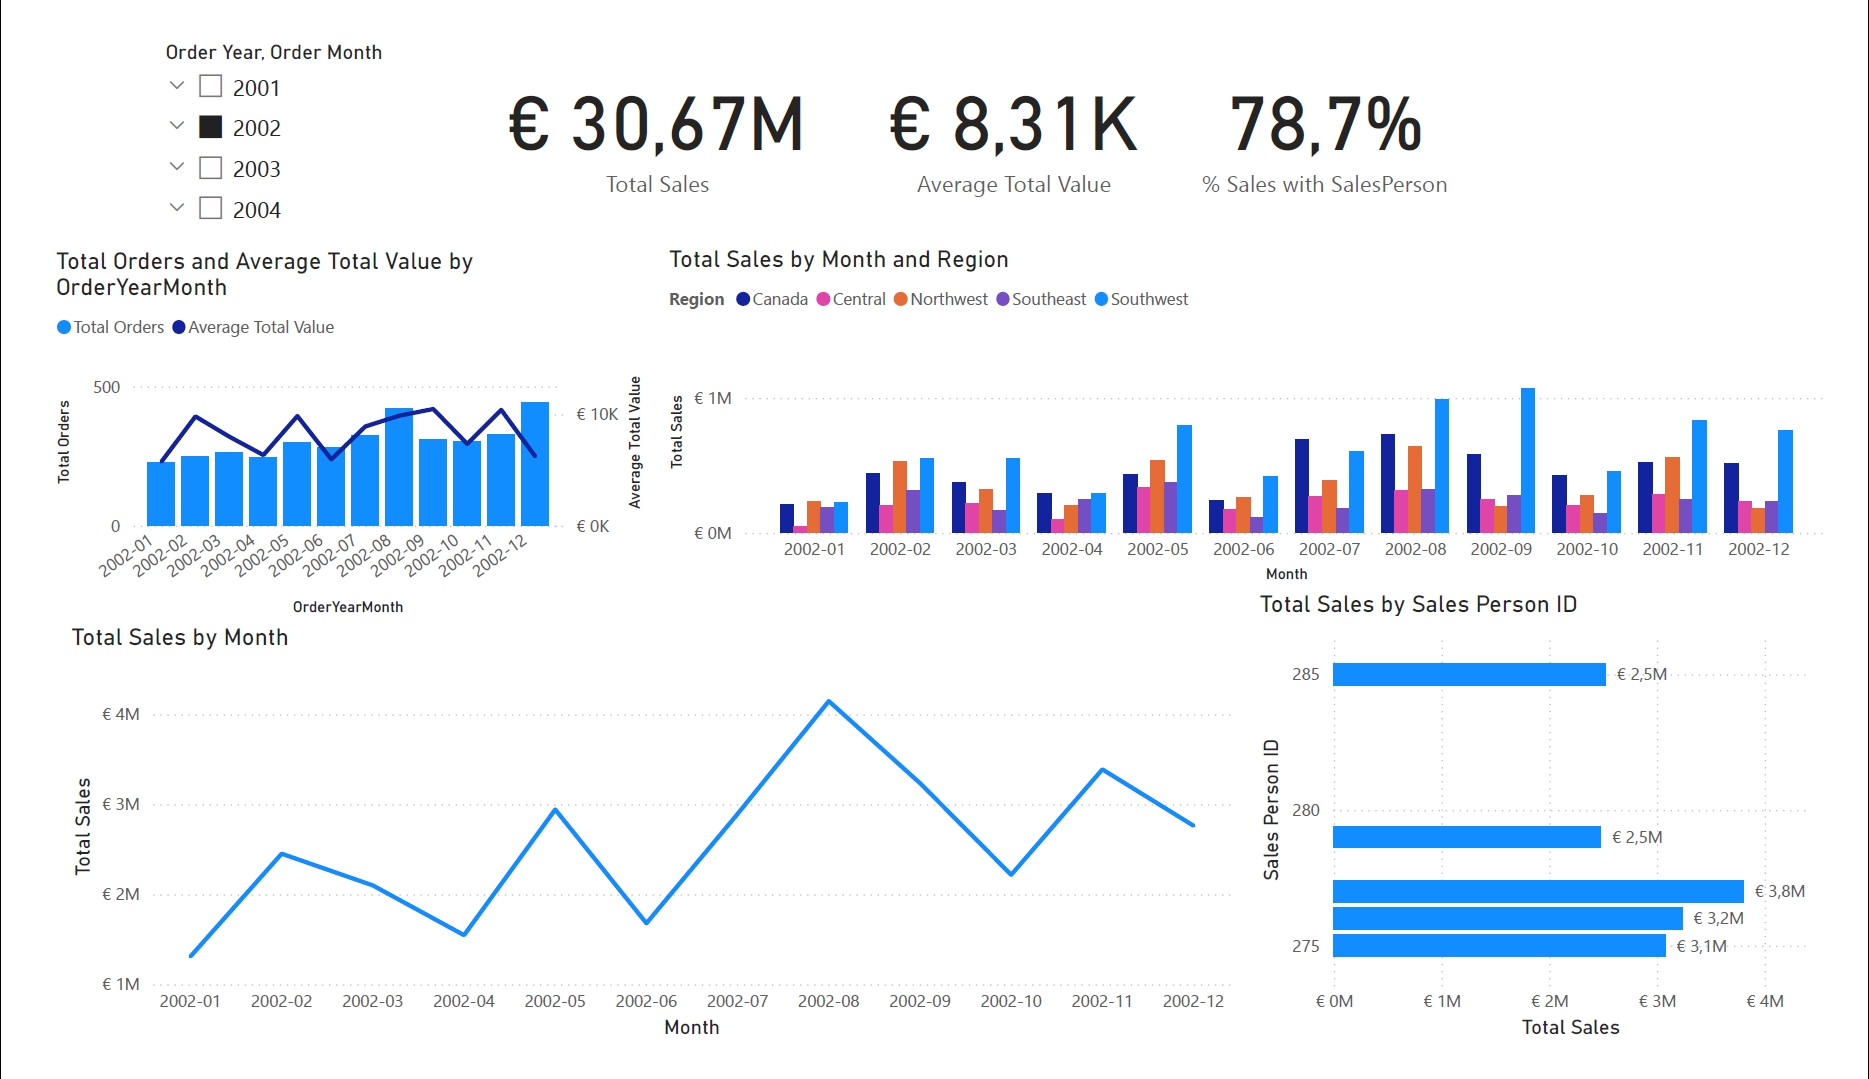

The dashboard page shown, as its layout file describes it:
{"tool":"powerbi","page":{"name":"analitical","canvas":[1280,720],"ordinal":3},"visuals":[{"type":"card","fields":{"Values":["Sales SalesOrderDetail.Total Sales"]},"box":[296.8,13.1,292.3,108.4],"z":0},{"type":"card","fields":{"Values":["Sales SalesOrderHeader.% Sales with SalesPerson"]},"box":[804.5,13.1,226.4,108.4],"z":1000},{"type":"card","fields":{"Values":["Sales SalesOrderDetail.Average Total Value"]},"box":[593.2,13.1,207.2,108.4],"z":2000},{"type":"lineChart","fields":{"Y":["Sum(Sales SalesOrderDetail.LineTotal)"],"Category":["Sales SalesOrderHeader.OrderYearMonth"]},"box":[20.6,418.5,834.3,301.9],"z":3000},{"type":"clusteredColumnChart","fields":{"Category":["Sales SalesOrderHeader.OrderYearMonth"],"Series":["Sales SalesTerritory.Name"],"Y":["Sales SalesOrderDetail.Total Sales"]},"box":[446,149.6,834.3,245.6],"z":3001},{"type":"clusteredBarChart","fields":{"Category":["Sales SalesOrderHeader.SalesPersonID"],"Y":["Sum(Sales SalesOrderDetail.LineTotal)"]},"box":[865.9,395.2,414.4,325.2],"z":3002},{"type":"lineClusteredColumnComboChart","fields":{"Category":["Sales SalesOrderHeader.OrderYearMonth"],"Y":["Sales SalesOrderHeader.Total Orders"],"Y2":["Sales SalesOrderDetail.Average Total Value"]},"box":[9.6,150.9,428.1,267.6],"z":3003},{"type":"slicer","fields":{"Values":["Sales SalesOrderHeader.OrderYear","Sales SalesOrderHeader.OrderMonth"]},"box":[80.4,-0.1,237.2,151.2],"z":3004}]}

Visuals, with their boxes in screenshot pixels (x1, y1, x2, y2), scaled from the page's 1280x720 canvas onto the 1869x1079 screenshot:
card - Sales SalesOrderDetail.Total Sales: x1=433, y1=20, x2=860, y2=182
card - Sales SalesOrderHeader.% Sales with SalesPerson: x1=1175, y1=20, x2=1505, y2=182
card - Sales SalesOrderDetail.Average Total Value: x1=866, y1=20, x2=1169, y2=182
lineChart - Sum(Sales SalesOrderDetail.LineTotal) x Sales SalesOrderHeader.OrderYearMonth: x1=30, y1=627, x2=1248, y2=1078
clusteredColumnChart - Sales SalesOrderHeader.OrderYearMonth x Sales SalesTerritory.Name: x1=651, y1=224, x2=1868, y2=592
clusteredBarChart - Sales SalesOrderHeader.SalesPersonID x Sum(Sales SalesOrderDetail.LineTotal): x1=1264, y1=592, x2=1868, y2=1078
lineClusteredColumnComboChart - Sales SalesOrderHeader.OrderYearMonth x Sales SalesOrderHeader.Total Orders: x1=14, y1=226, x2=639, y2=627
slicer - Sales SalesOrderHeader.OrderYear x Sales SalesOrderHeader.OrderMonth: x1=117, y1=0, x2=464, y2=226
